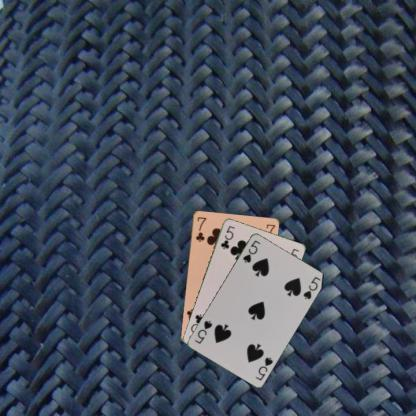5c: (218, 223, 236, 250)
5s: (240, 237, 262, 264), (253, 354, 274, 382)
7c: (192, 214, 208, 244)
